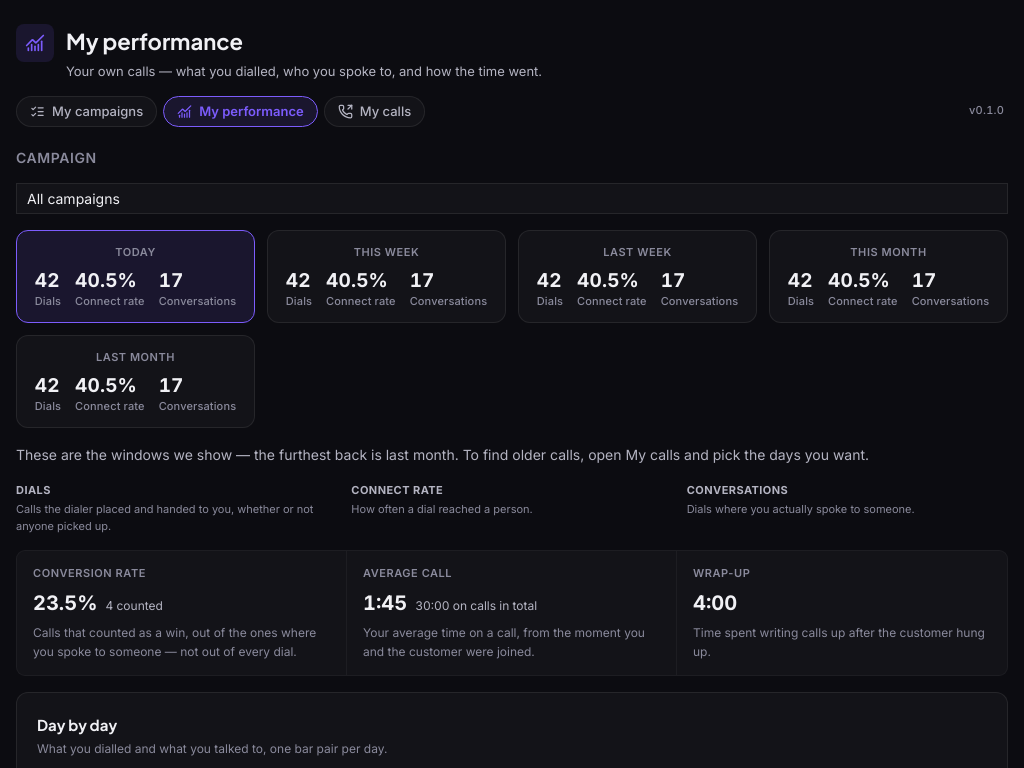
Test: AgentPerformancePage — scoping the figures to one campaign › says what the figures now mean while scoped, and stops saying it when cleared
This screenshot has width=1024, height=768.
Select "Renewals" in the dropdown with test id "campaign-scope" at [512, 199], box [16,183,1008,214]
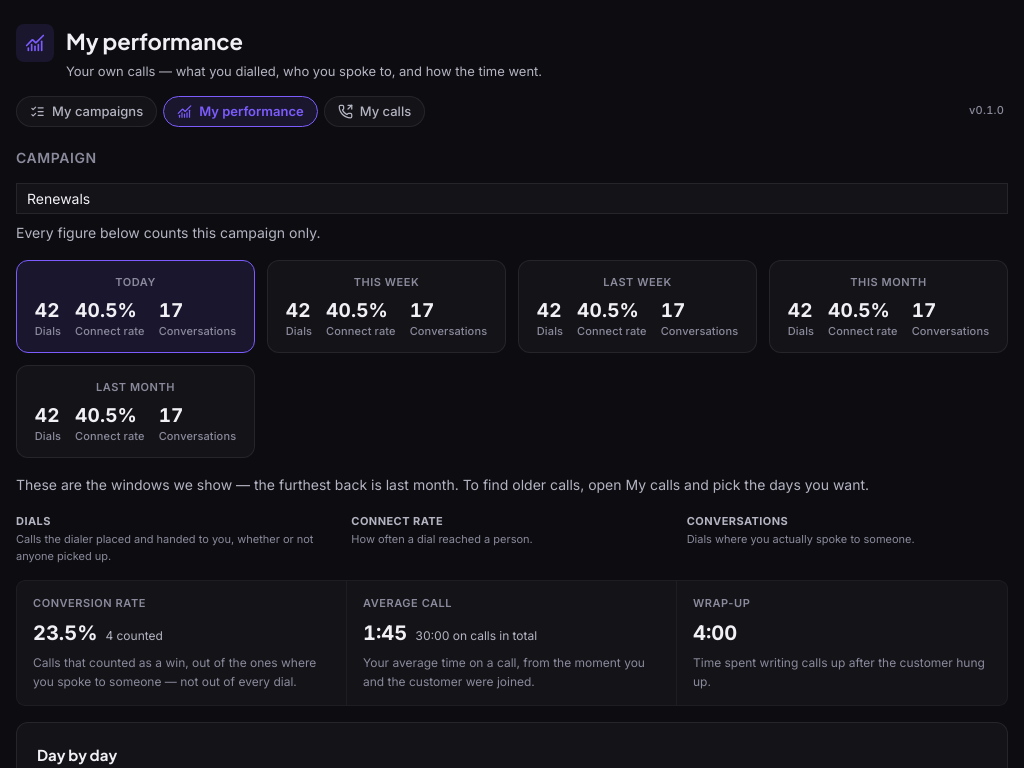
expect the text "Every figure below counts this campaign only." is shown: met, box [16,222,320,244]
Select "All campaigns" in the dropdown with test id "campaign-scope" at [512, 199], box [16,183,1008,214]
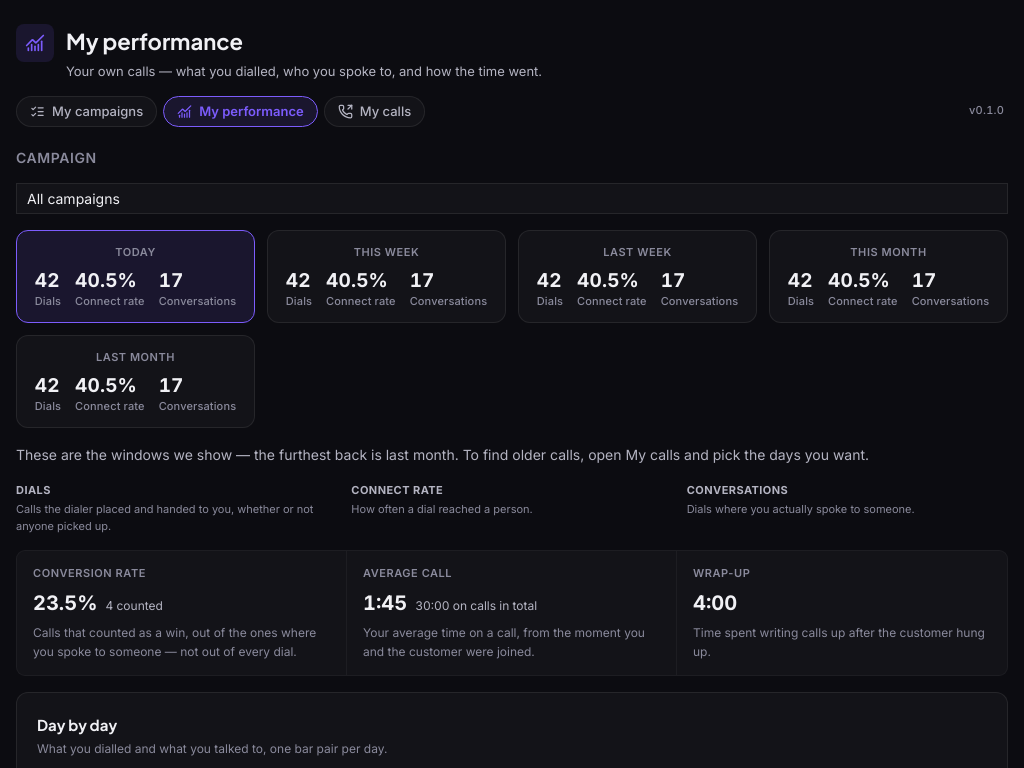
expect the text with test id "campaign-scope-note" is gone: met
